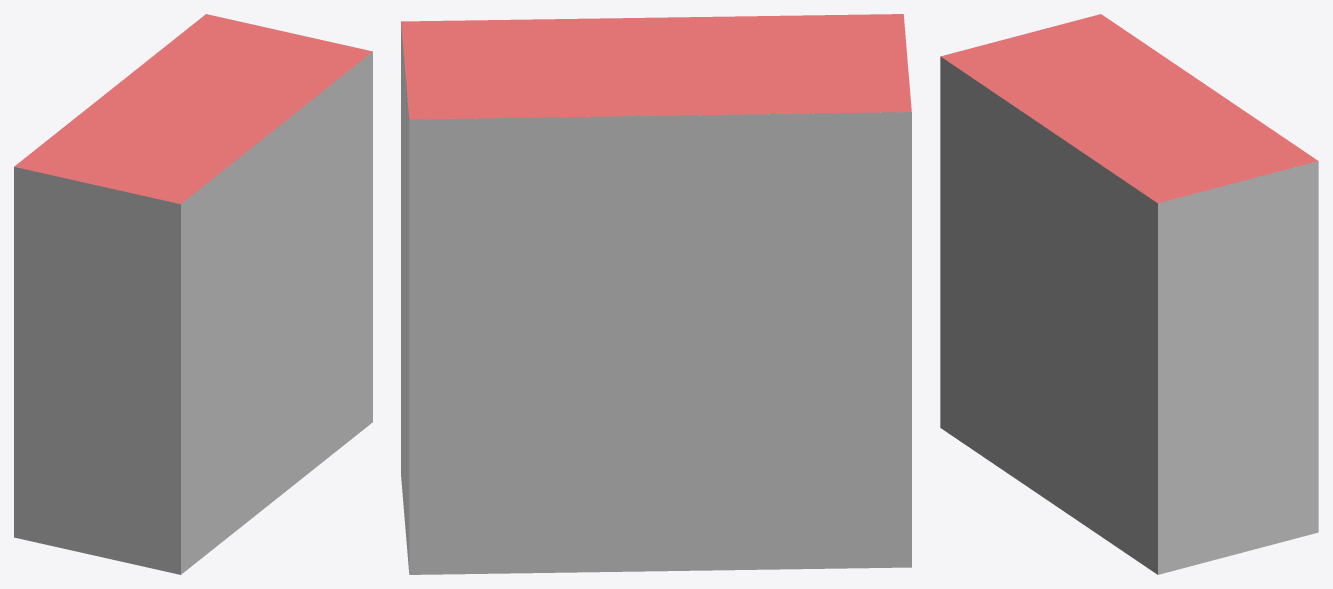
The model's file is ID_f3caf1b6-1799-4584-9387-21c38dee7b46.gltf.
3 views of the same model, side by side, from view 1: azimuth 30°, elevation 25°; view 2: azimuth 150°, elevation 25°; view 3: azimuth 270°, elevation 25° (orthographic). The views are drawn at different scales.
Visible parts, largest first — view 1: Z_UP; view 2: Z_UP; view 3: Z_UP.
Boxes of the visible parts, x1,y1,x2,y2 form: Z_UP: (14,14,372,574); Z_UP: (401,14,911,574); Z_UP: (940,14,1318,574).
Bounding box in the file's own units: 14.2 × 12.99 × 11.98.
